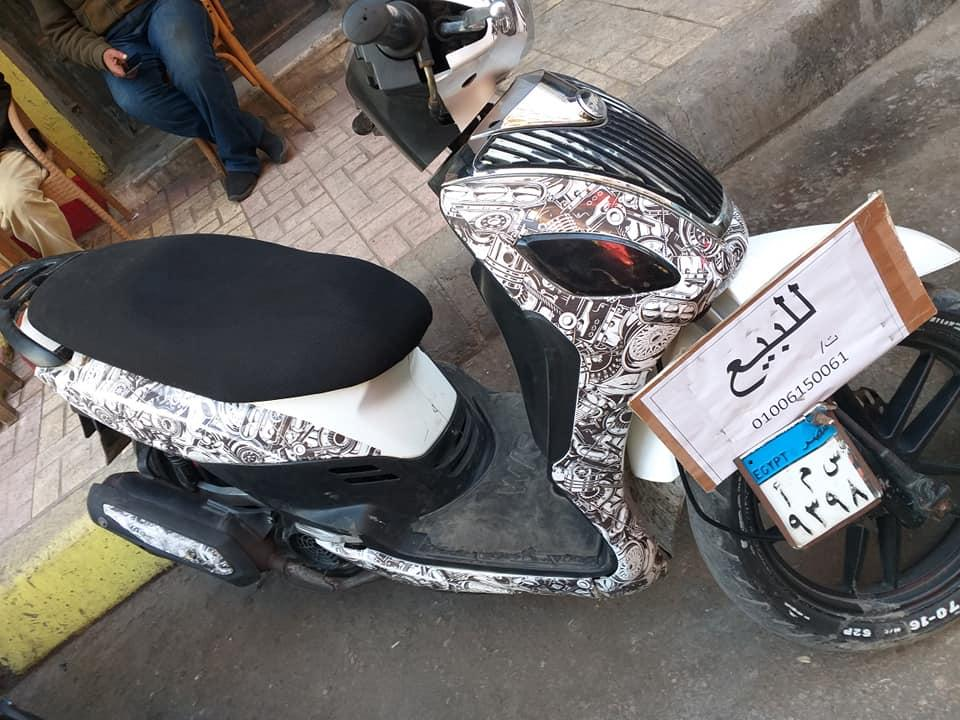License Plate: (730, 417, 891, 547)
